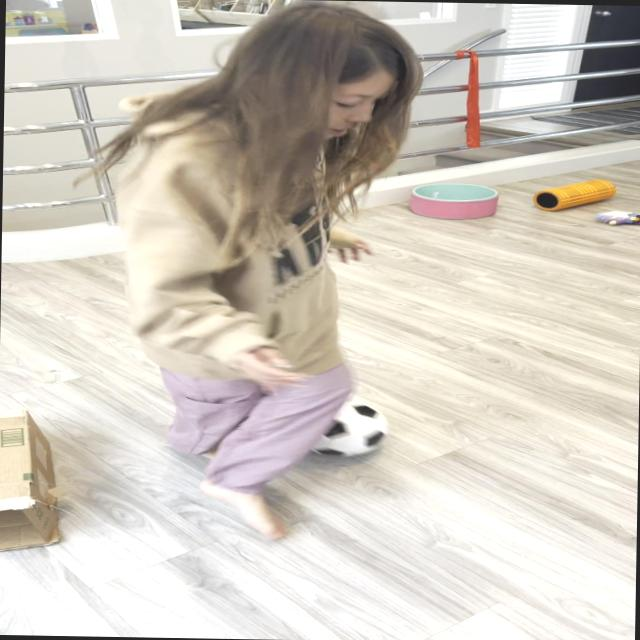Soccer Ball: (298, 402, 388, 457)
